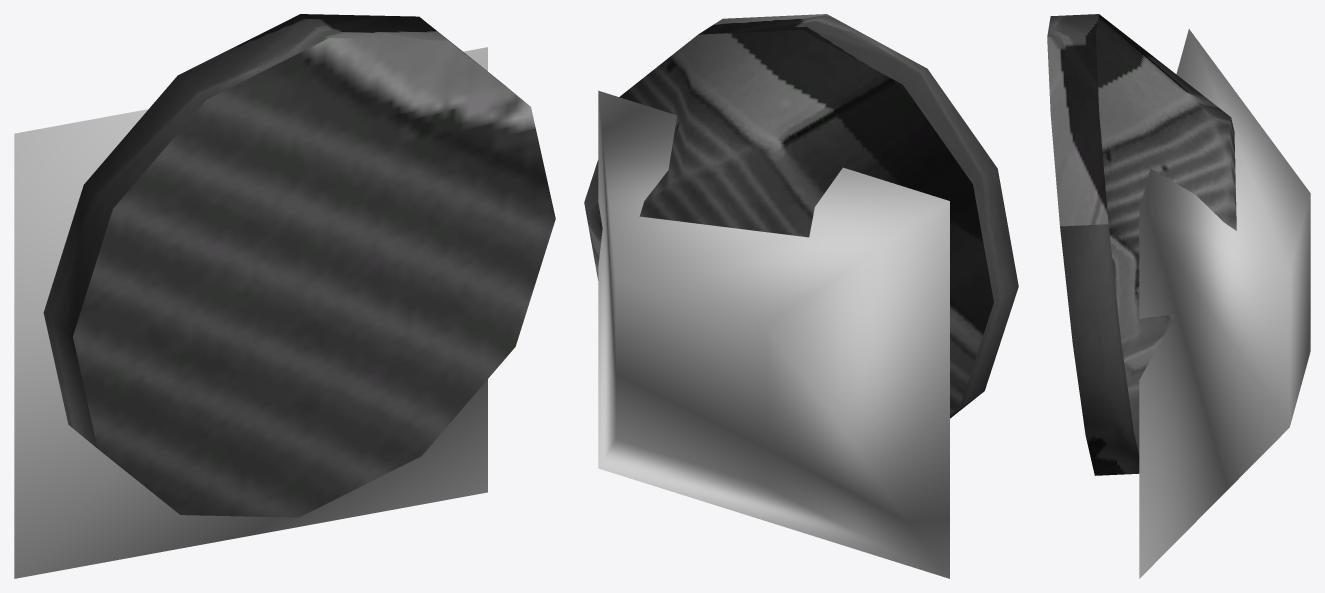
The model's file is alien_gunship_damaged.fbx.
The picture shows the model from 3 angles, left to right: view 1: azimuth 30°, elevation 25°; view 2: azimuth 150°, elevation 25°; view 3: azimuth 270°, elevation 25°; orthographic projection. The views are drawn at different scales.
Visible parts, largest first — view 1: 0001_body_damaged, 0000_body_damaged; view 2: 0000_body_damaged, 0001_body_damaged; view 3: 0000_body_damaged, 0001_body_damaged.
Part boxes in pixels (<box>): 0001_body_damaged: <box>43,14,555,517</box>; 0000_body_damaged: <box>14,47,487,578</box>; 0000_body_damaged: <box>598,90,949,578</box>; 0001_body_damaged: <box>584,14,1018,418</box>; 0000_body_damaged: <box>1139,29,1310,578</box>; 0001_body_damaged: <box>1047,14,1236,475</box>.
Bounding box in the file's own units: 0.1063 × 0.1156 × 0.0604.
